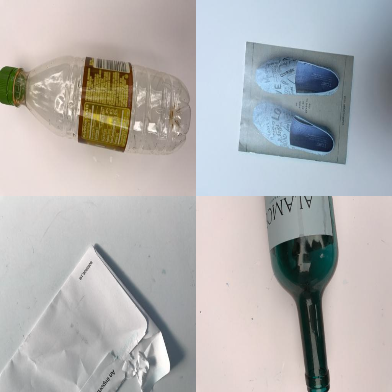glass: (264, 196, 338, 392)
paper: (1, 244, 172, 391), (238, 42, 355, 165)
plastic: (1, 55, 190, 155)
